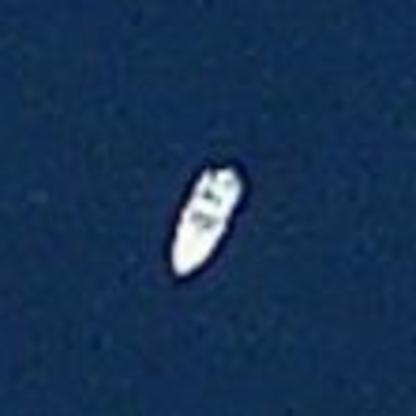ship: (155, 144, 256, 285)
